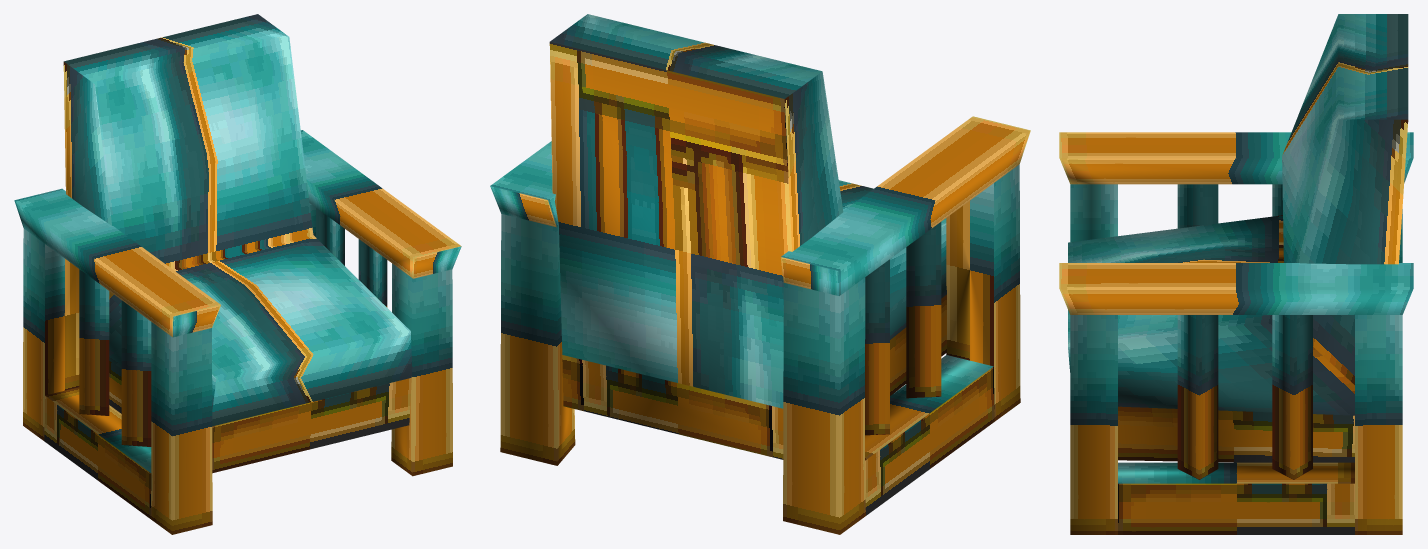
Rendered from rmk_cnt_chairS02.dae.
3 views of the same model, side by side, from view 1: azimuth 30°, elevation 25°; view 2: azimuth 150°, elevation 25°; view 3: azimuth 270°, elevation 25° (orthographic). The views are drawn at different scales.
Visible parts, largest first — view 1: rmk_cnt_chairS02; view 2: rmk_cnt_chairS02; view 3: rmk_cnt_chairS02.
Boxes of the visible parts, bbox=[...] form: rmk_cnt_chairS02: bbox=[14, 14, 461, 534]; rmk_cnt_chairS02: bbox=[490, 14, 1030, 534]; rmk_cnt_chairS02: bbox=[1059, 14, 1413, 534].
Bounding box in the file's own units: 29.67 × 34.59 × 28.32.
Materials: 1 (1 with a texture image).
